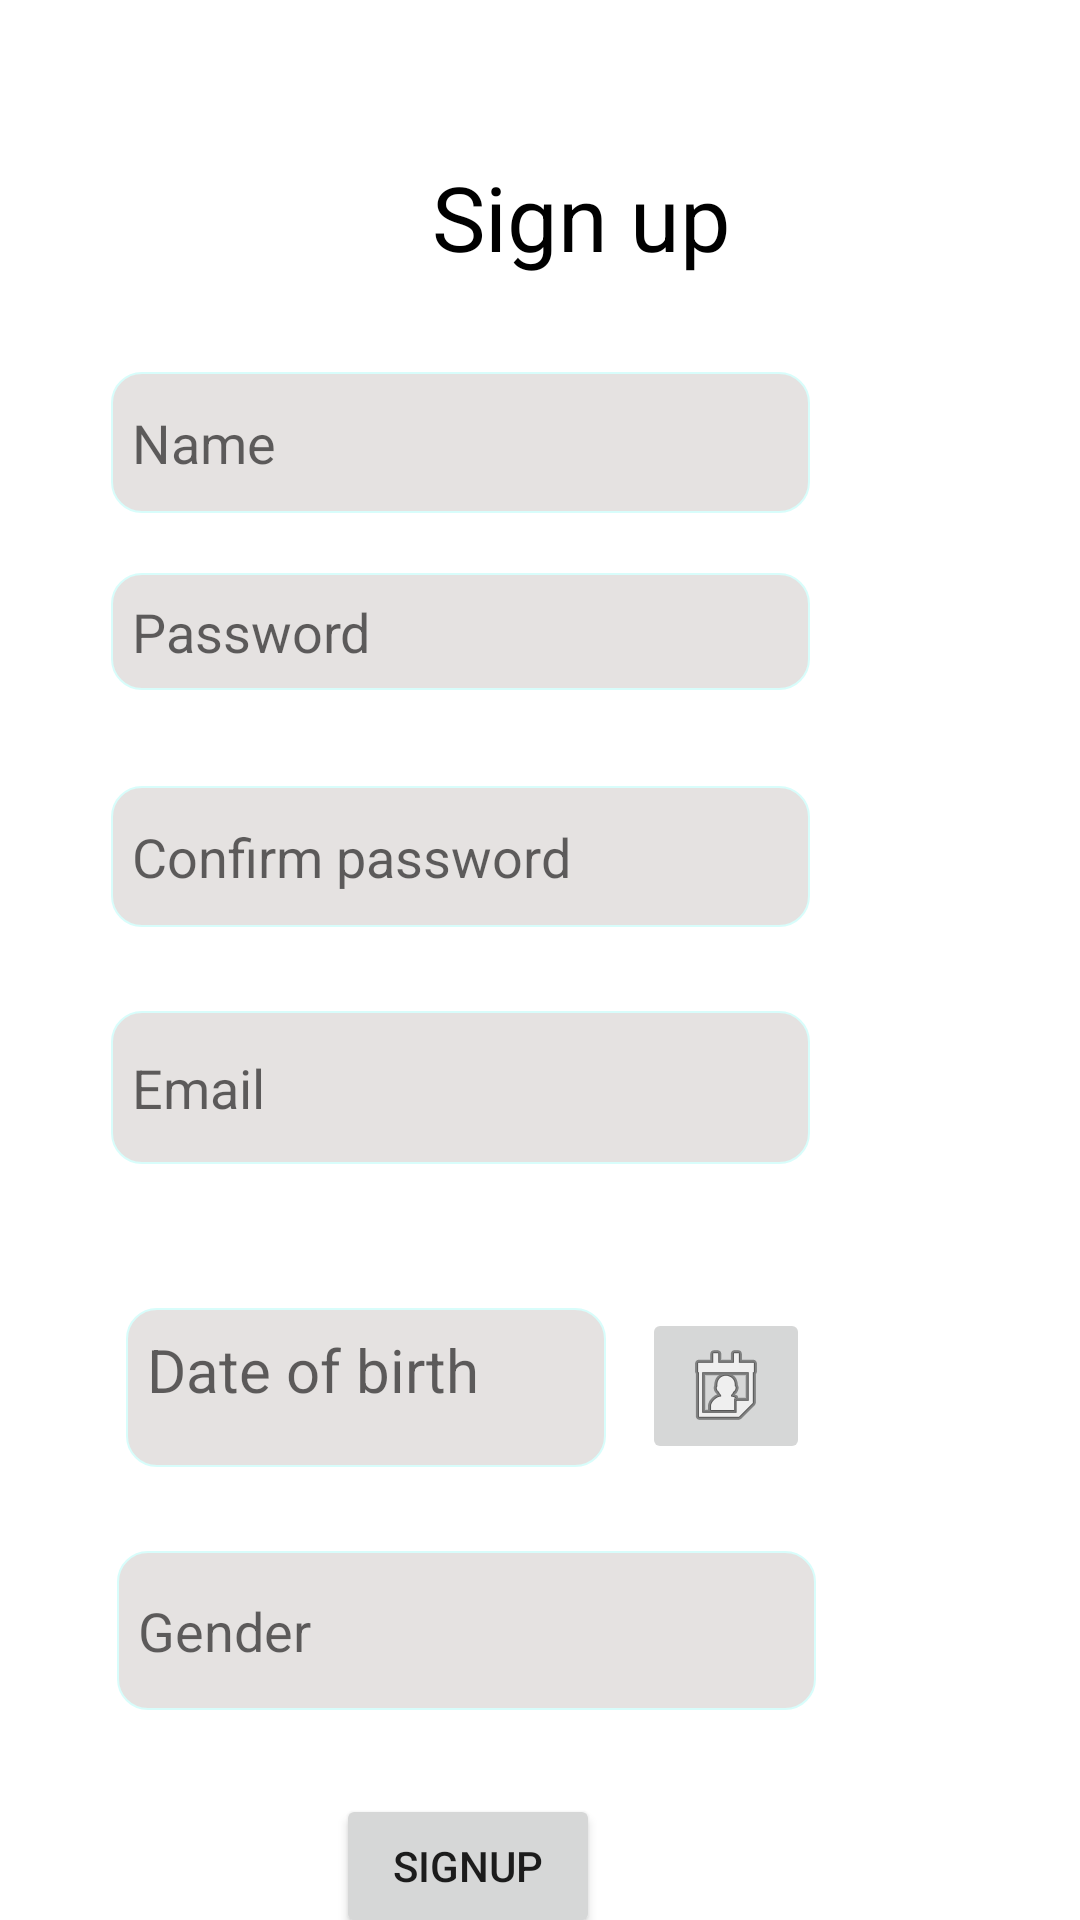

Where icons sit on this 1080 × 1920 app screen, as (x1, y1, x2, y2):
calendar: (654, 1326, 798, 1446)
